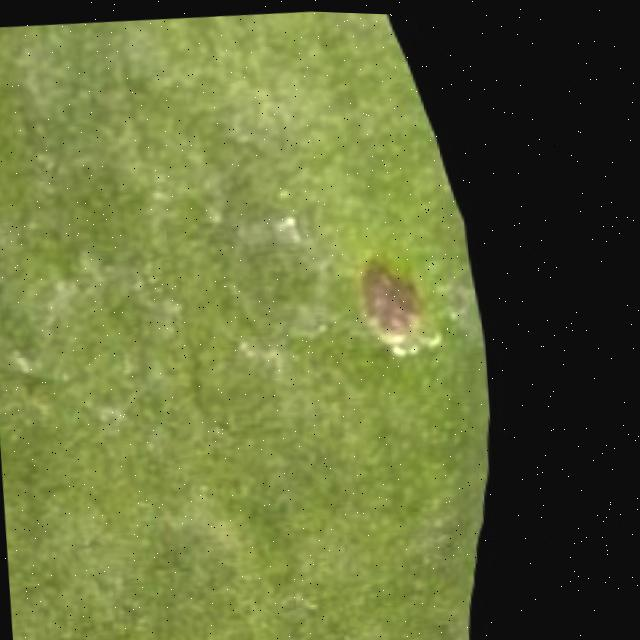mite: (373, 11, 635, 640), (235, 200, 311, 255)
sunburn: (353, 243, 448, 360)
